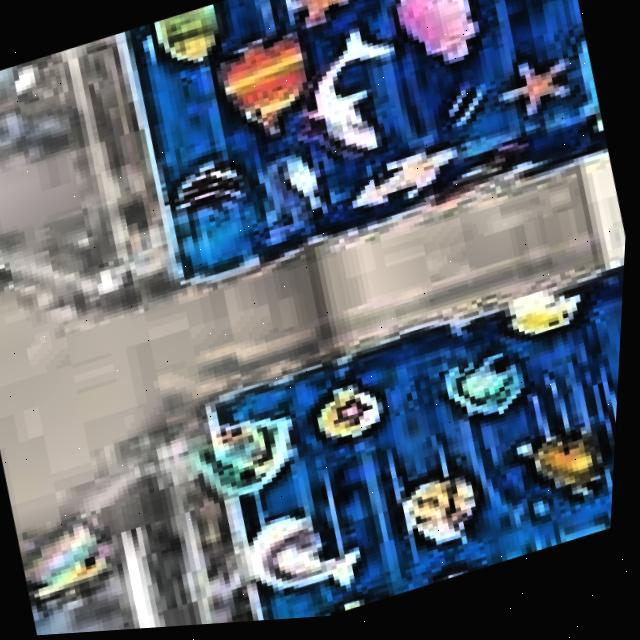plastic: (0, 241, 629, 639), (0, 0, 623, 368)
